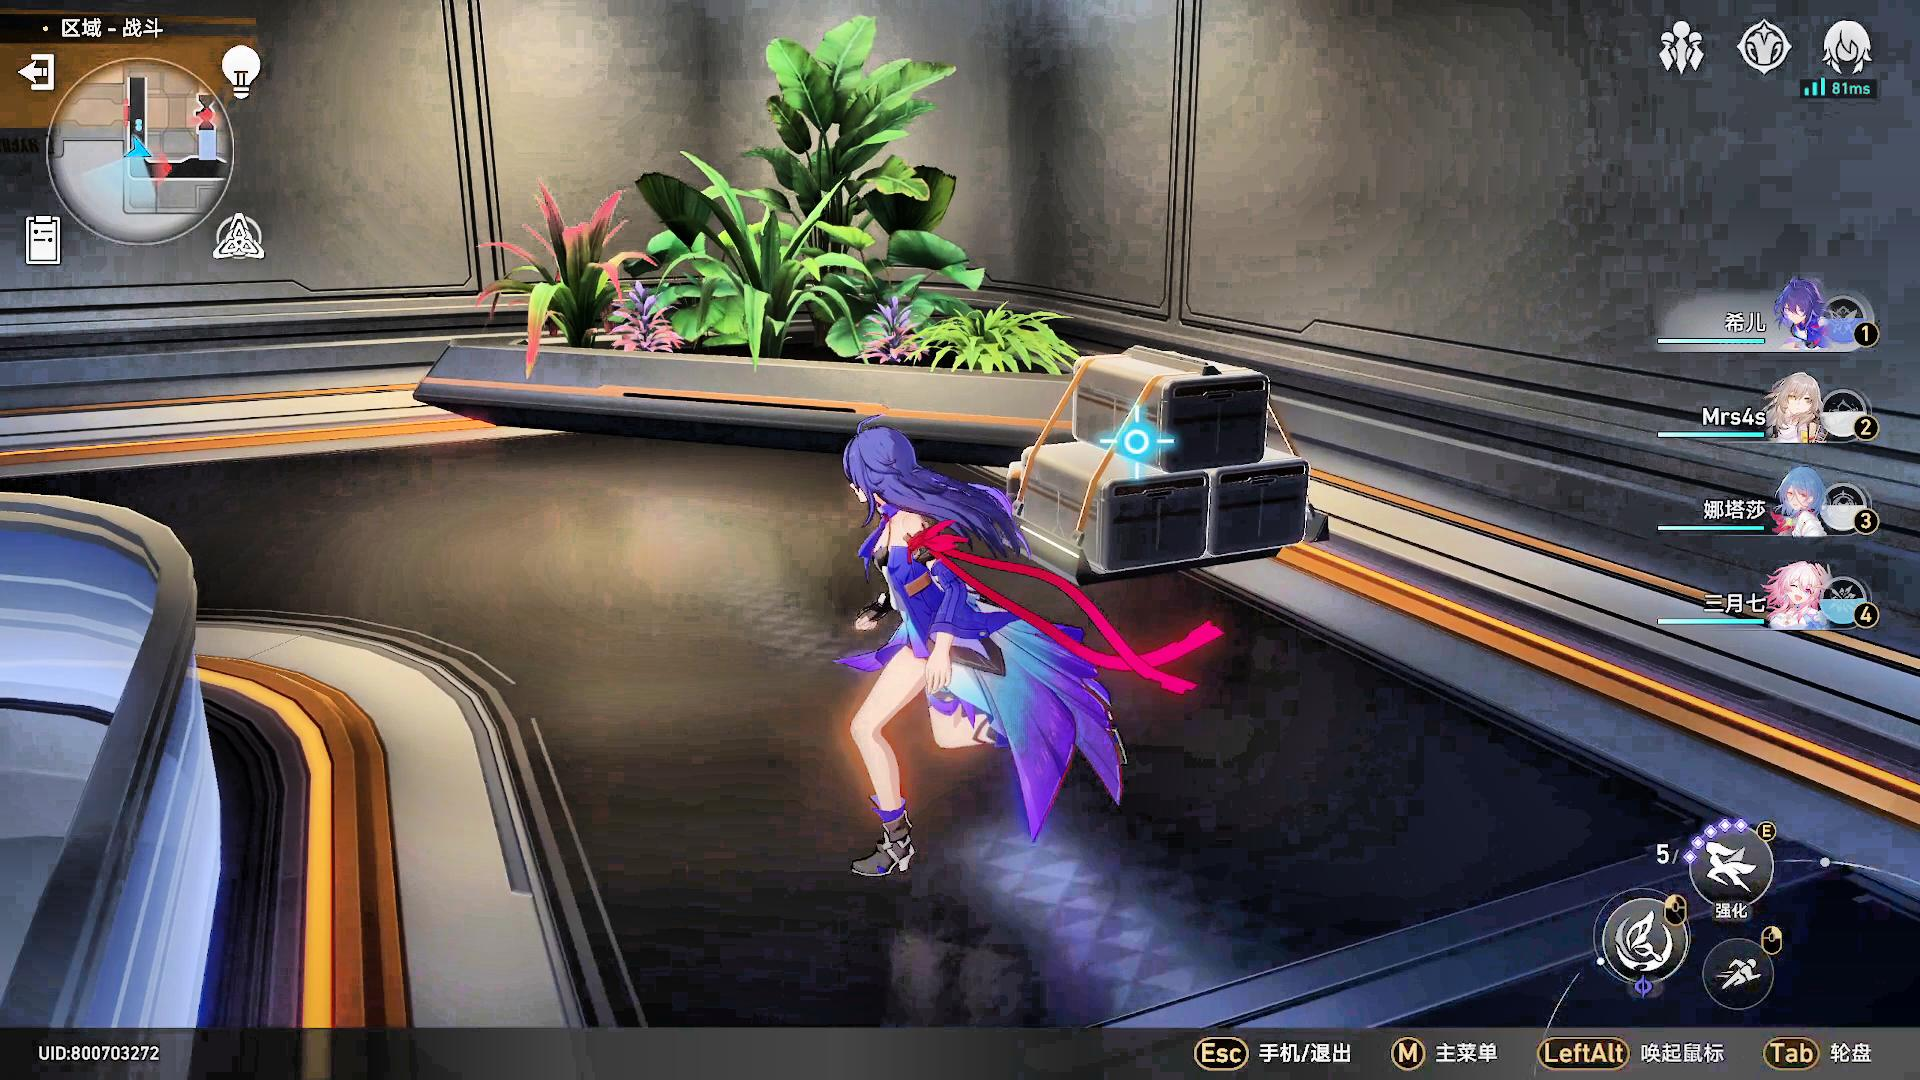Box: (1014, 345, 1335, 578)
Self: (837, 421, 1220, 890)
